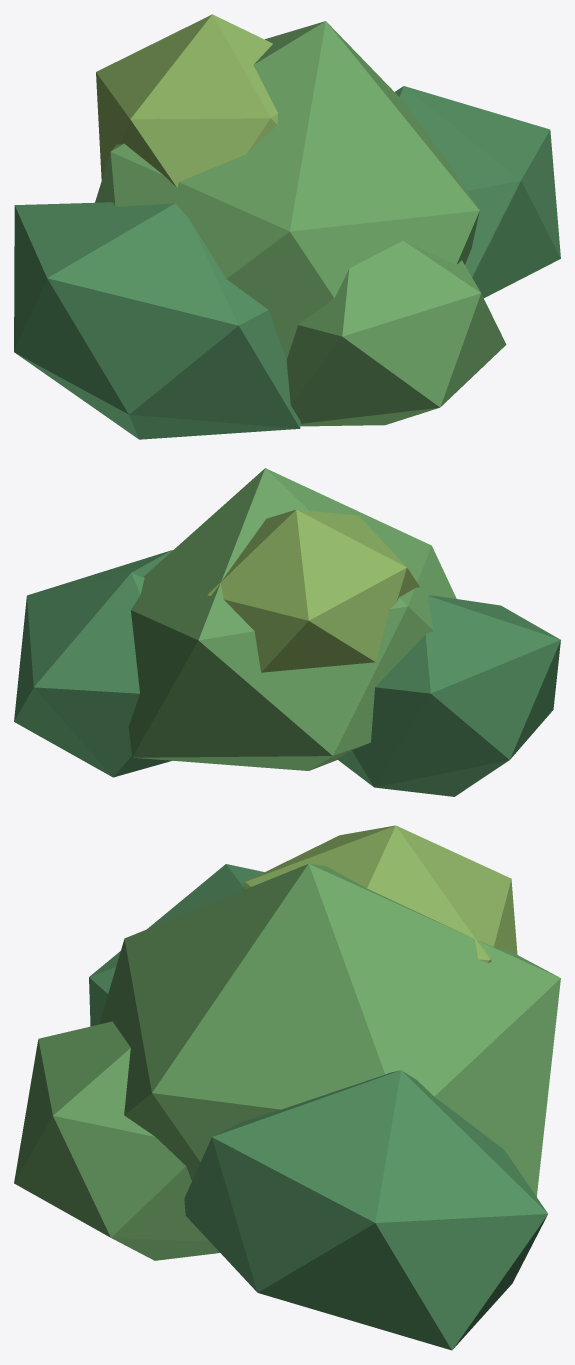
File: Cozy_Bush_01_RoundCluster.fbx
3 renders of one model, top to bottom at view 1: azimuth 30°, elevation 25°; view 2: azimuth 150°, elevation 25°; view 3: azimuth 270°, elevation 25°, orthographic. The views are drawn at different scales.
Visible parts, largest first — view 1: Cozy_Bush_01_RoundCluster; view 2: Cozy_Bush_01_RoundCluster; view 3: Cozy_Bush_01_RoundCluster.
Part boxes in pixels (x1=…): Cozy_Bush_01_RoundCluster: x1=14, y1=14, x2=560, y2=439; Cozy_Bush_01_RoundCluster: x1=14, y1=468, x2=560, y2=796; Cozy_Bush_01_RoundCluster: x1=14, y1=825, x2=560, y2=1350.
Size of the model in its own units: 1.66 by 0.9864 by 1.21.
